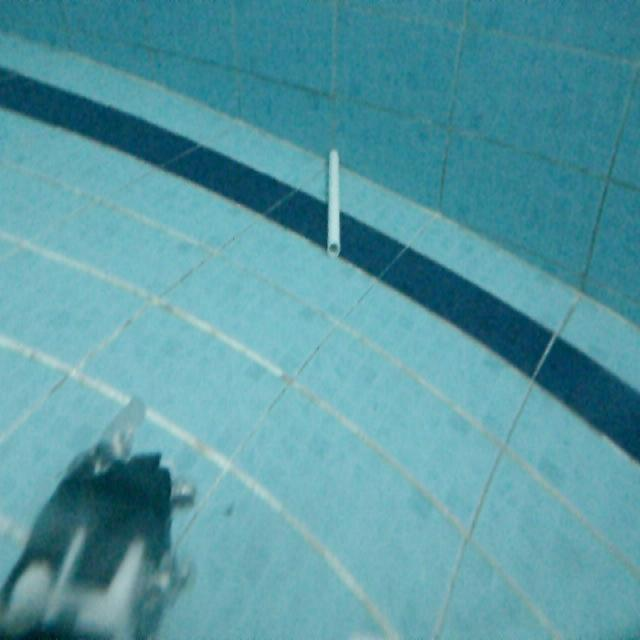Cube: (325, 146, 342, 258)
